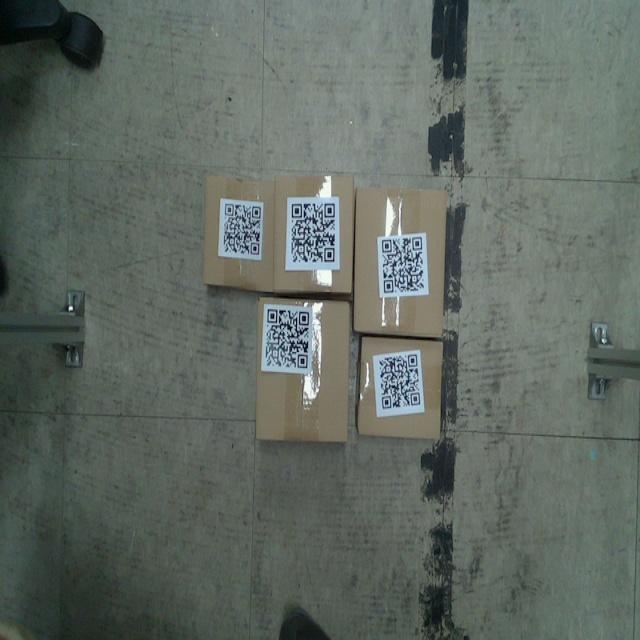box: (350, 184, 448, 339), (254, 296, 352, 444), (354, 336, 447, 442), (273, 172, 351, 296), (198, 172, 276, 292)
